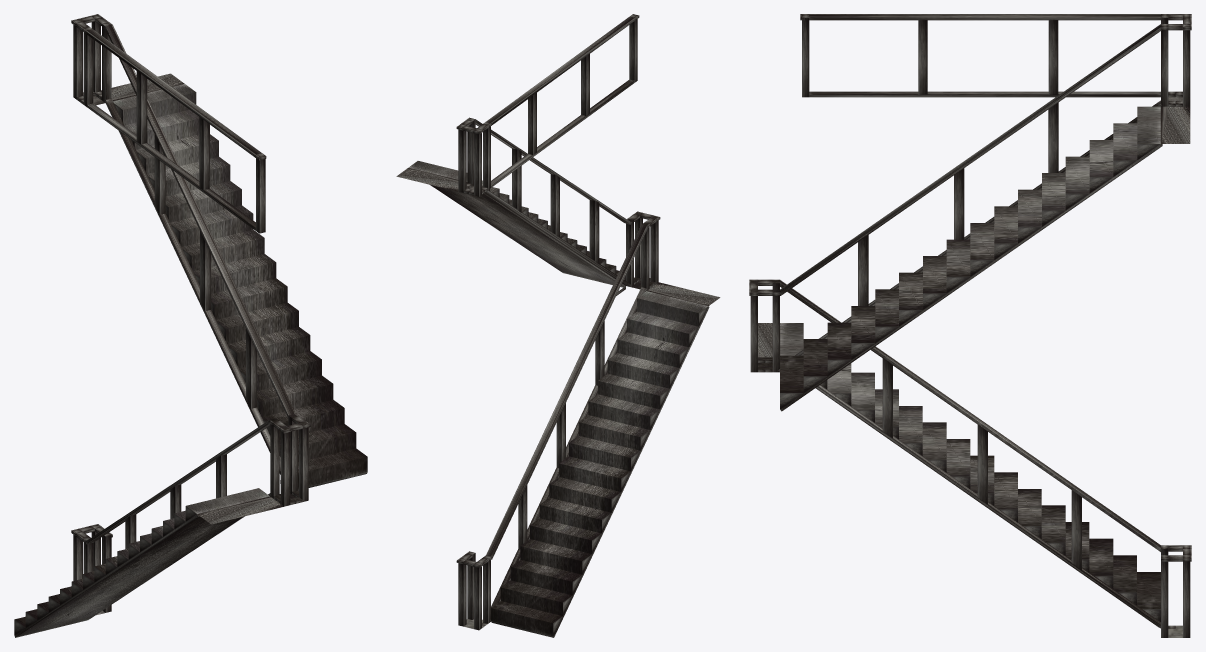
Rendered from stair.glb.
3 views of the same model, side by side, from view 1: azimuth 30°, elevation 25°; view 2: azimuth 150°, elevation 25°; view 3: azimuth 270°, elevation 25° (orthographic). The views are drawn at different scales.
Visible parts, largest first — view 1: stiege-b_obj_cleaner_materialmerger_gles; view 2: stiege-b_obj_cleaner_materialmerger_gles; view 3: stiege-b_obj_cleaner_materialmerger_gles.
Part boxes in pixels (x1,y1,x2,y2): stiege-b_obj_cleaner_materialmerger_gles: [14, 14, 367, 637]; stiege-b_obj_cleaner_materialmerger_gles: [396, 14, 720, 637]; stiege-b_obj_cleaner_materialmerger_gles: [749, 14, 1191, 637].
Size of the model in its own units: 140 by 462 by 302.
Materials: 1 (1 with a texture image).
